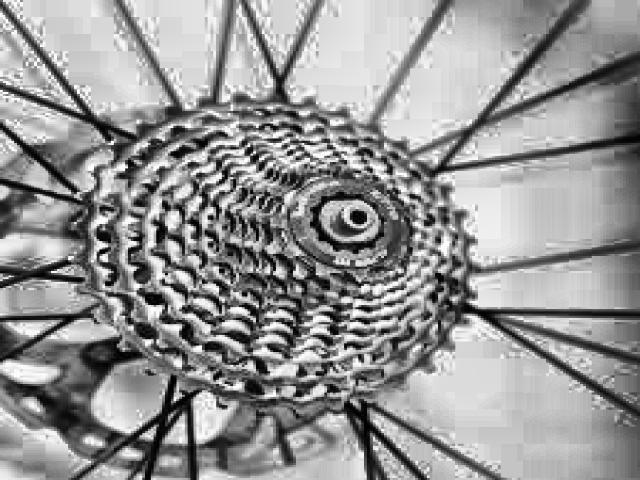cassette: (71, 94, 479, 415)
